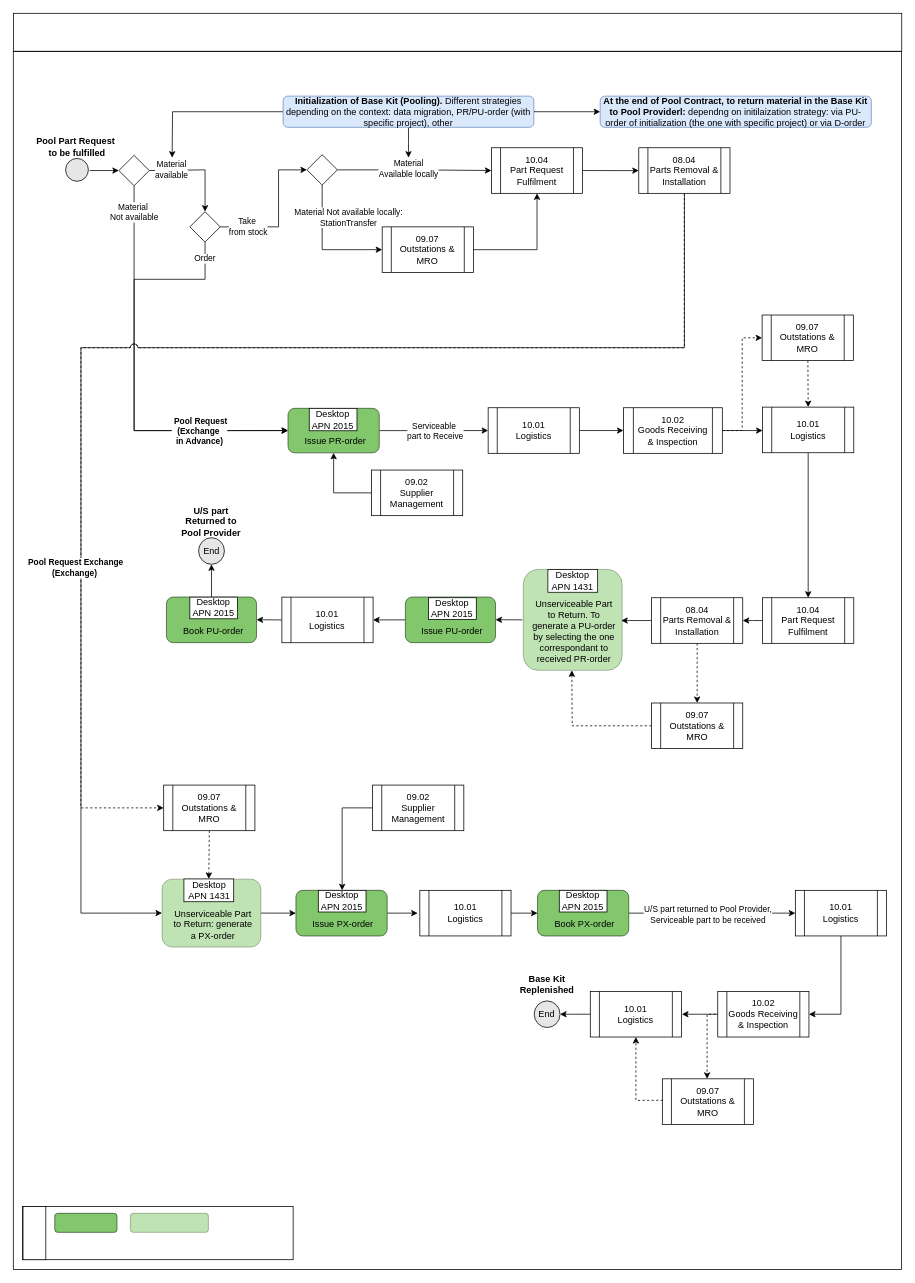
This 915x1283 diagram has some shape labels left out. Here are the shapes that lost their labels. From the top down, the centre of each, then its label:
At point 457,32: "09.06a Pooling (as a Pool Customer)".
At point 76,169: "Start".
At point 34,1233: "LEGEND".
At point 85,1222: "Purchasing".
At point 169,1222: "Repair Admin.".
